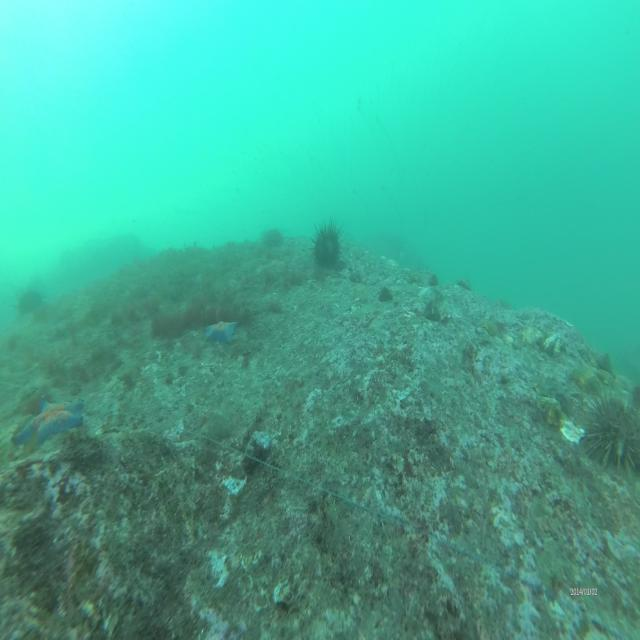echinus: (590, 392, 640, 476), (312, 219, 342, 272), (16, 289, 44, 318), (262, 226, 283, 252)
starfish: (14, 398, 85, 444), (205, 320, 238, 345)
